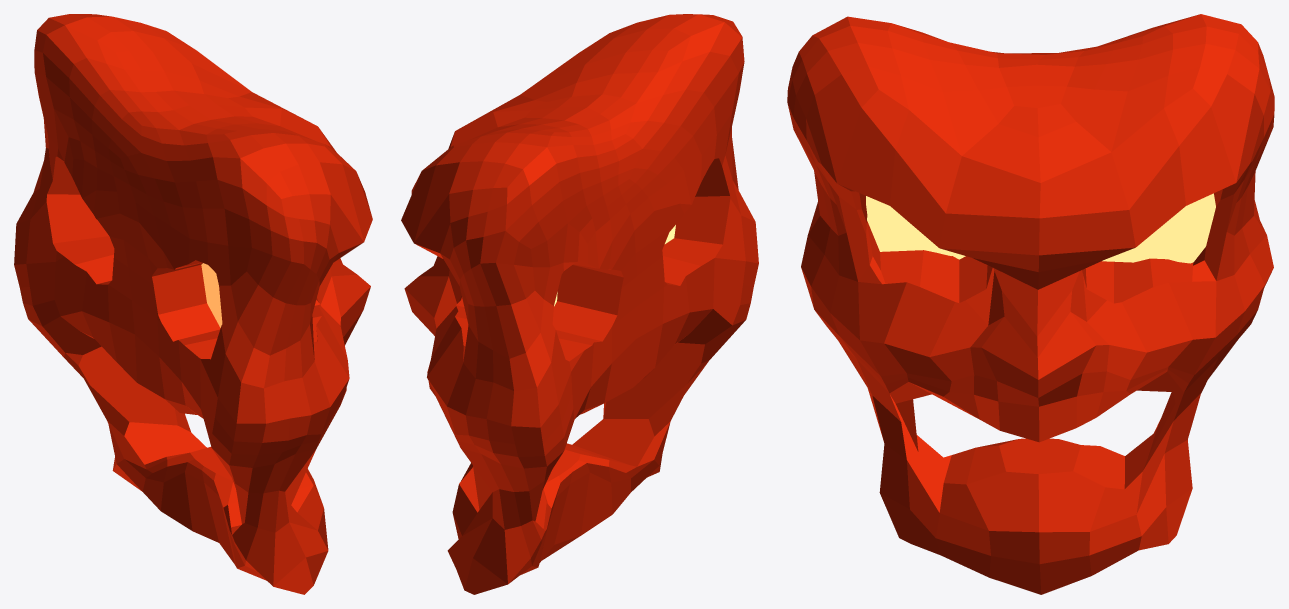
File: rage.fbx
3 renders of one model, left to right at view 1: azimuth 30°, elevation 25°; view 2: azimuth 150°, elevation 25°; view 3: azimuth 270°, elevation 25°, orthographic.
Visible parts, largest first — view 1: Sphere.001, Sphere.004; view 2: Sphere.001; view 3: Sphere.001, Sphere.004.
Part boxes in pixels (box(x1,y1,x2,y2)): Sphere.001: box(14, 14, 372, 594); Sphere.004: box(201, 263, 222, 327); Sphere.001: box(401, 14, 758, 594); Sphere.001: box(787, 14, 1274, 594); Sphere.004: box(866, 193, 1215, 263).
Size of the model in its own units: 89.95 by 179 by 152.
